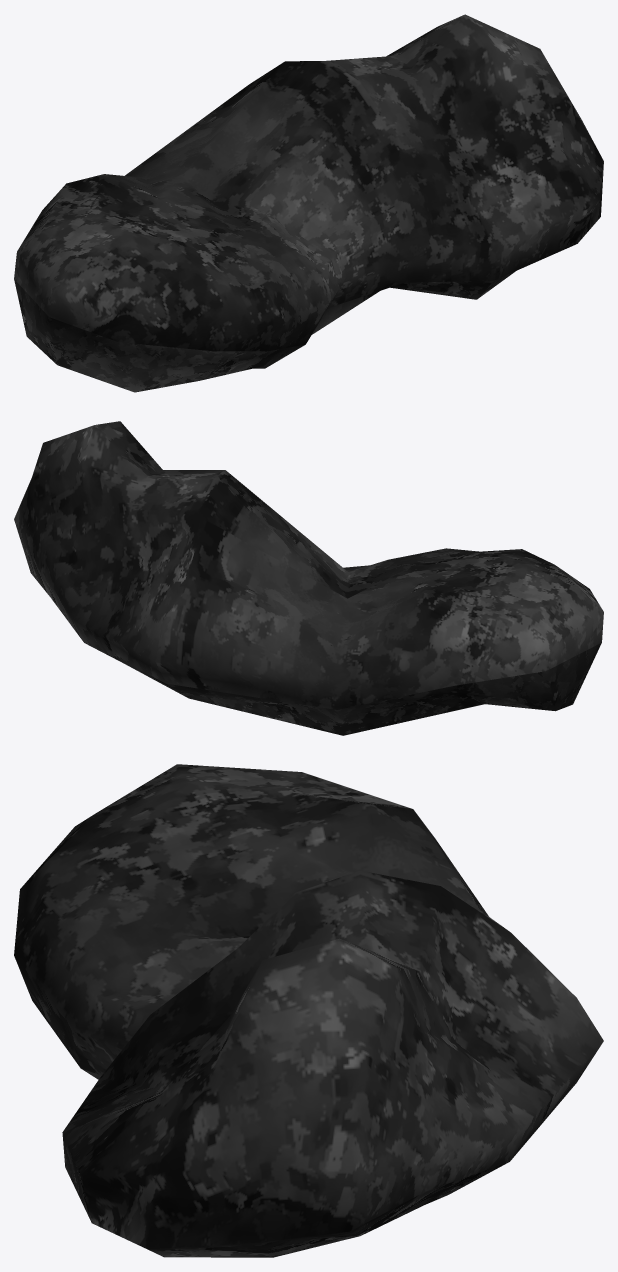
Rendered from shi9.FBX.
3 renders of one model, top to bottom at view 1: azimuth 30°, elevation 25°; view 2: azimuth 150°, elevation 25°; view 3: azimuth 270°, elevation 25°, orthographic. The views are drawn at different scales.
Parts seen in each view (by area): view 1: stone_08_01; view 2: stone_08_01; view 3: stone_08_01.
Part boxes in pixels (x1,y1,x2,y2): stone_08_01: [14, 14, 603, 392]; stone_08_01: [14, 421, 603, 735]; stone_08_01: [14, 764, 603, 1257].
Bounding box in the file's own units: 323 × 137 × 197.
